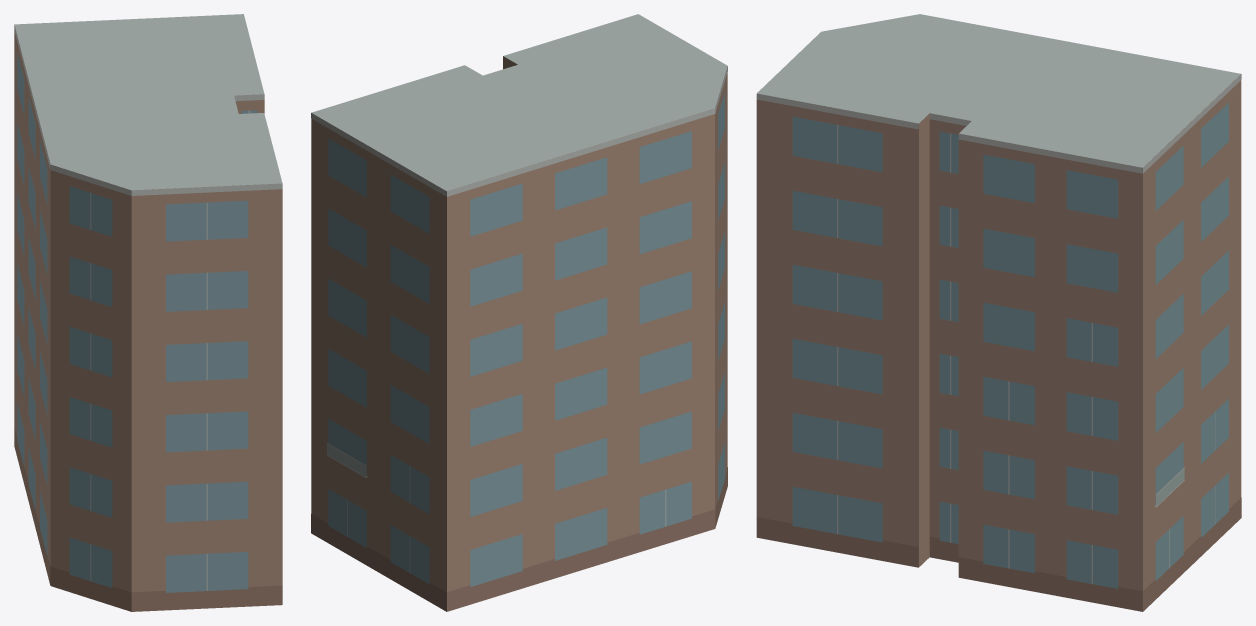
The model's file is survey-upis-32526527.glb.
The picture shows the model from 3 angles, left to right: view 1: azimuth 30°, elevation 25°; view 2: azimuth 150°, elevation 25°; view 3: azimuth 270°, elevation 25°; orthographic projection. The views are drawn at different scales.
Parts seen in each view (by area): view 1: survey-upis-32526527.tmp; view 2: survey-upis-32526527.tmp; view 3: survey-upis-32526527.tmp.
Part boxes in pixels (x1=…): survey-upis-32526527.tmp: x1=14, y1=14, x2=282, y2=611; survey-upis-32526527.tmp: x1=311, y1=14, x2=727, y2=611; survey-upis-32526527.tmp: x1=756, y1=14, x2=1241, y2=611.
Bounding box in the file's own units: 13.53 × 18.2 × 18.02.
